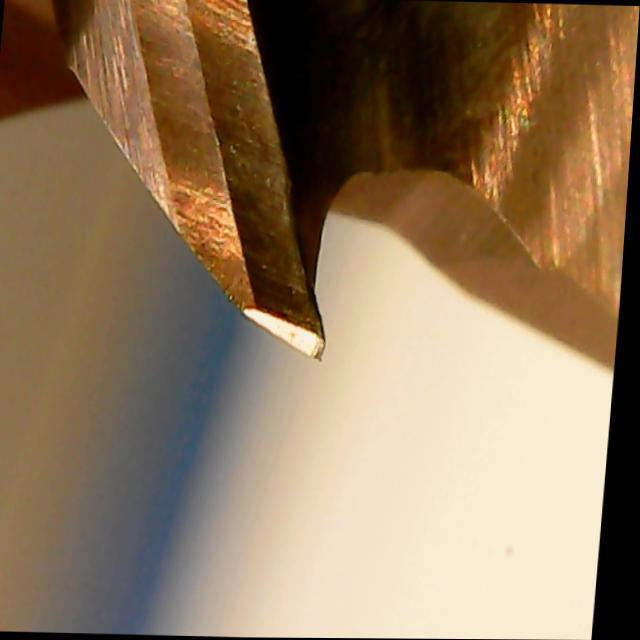Tool-wear-class-1: (160, 68, 366, 374)
